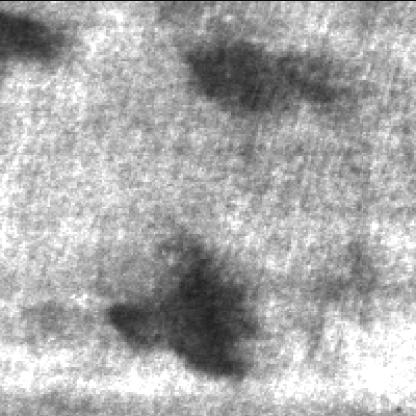patches: (112, 249, 262, 387), (193, 46, 346, 121), (2, 15, 79, 79)
